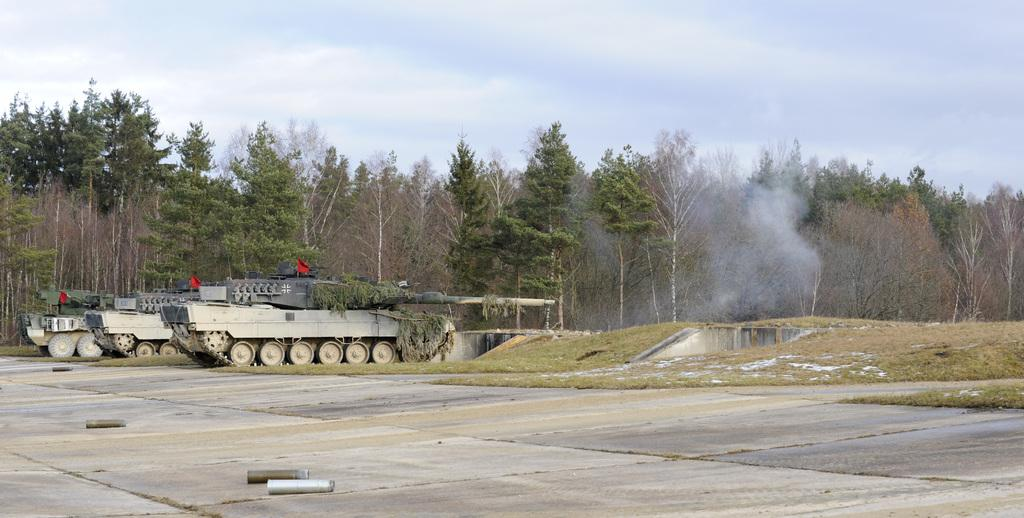Tank: (159, 256, 555, 367), (84, 275, 216, 359), (16, 281, 136, 358)
